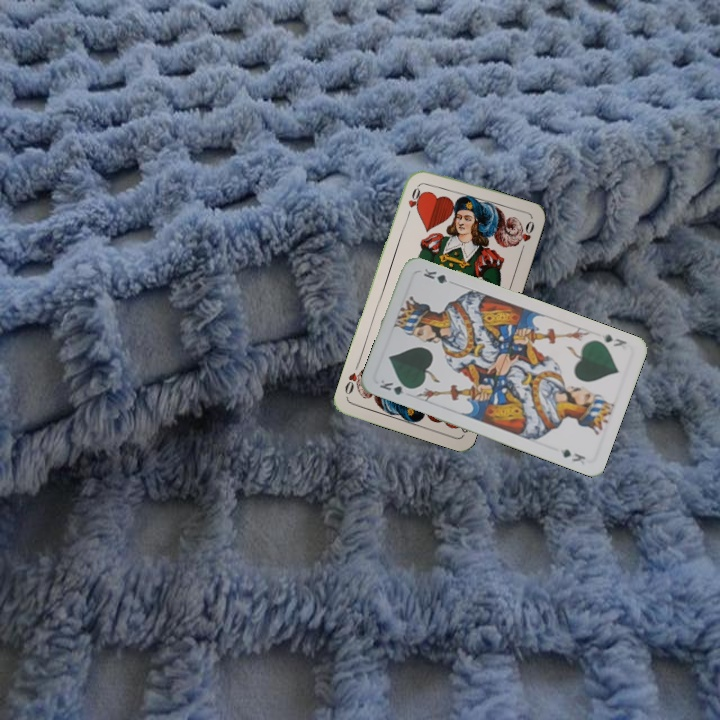GK: (375, 376, 415, 398), (598, 330, 630, 349)
HO: (402, 181, 423, 220)
